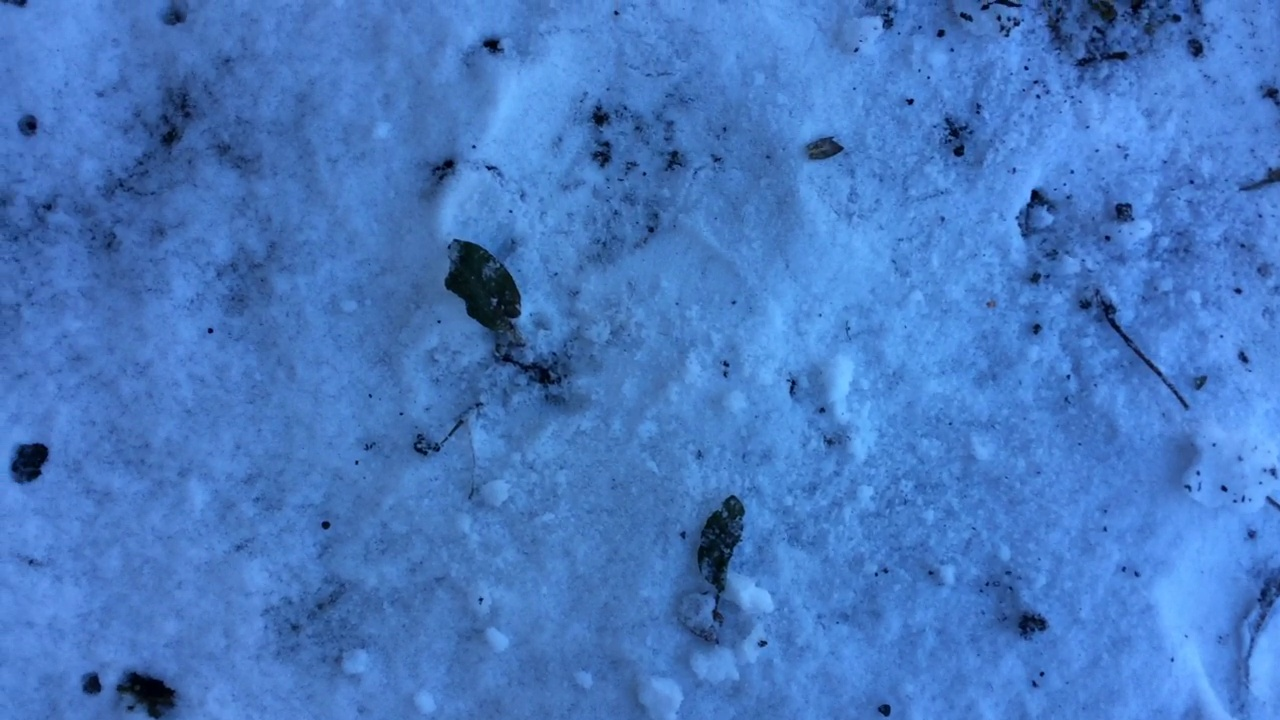root: (487, 331, 545, 372), (696, 604, 738, 643)
rumex: (439, 229, 548, 388), (690, 491, 747, 644)
